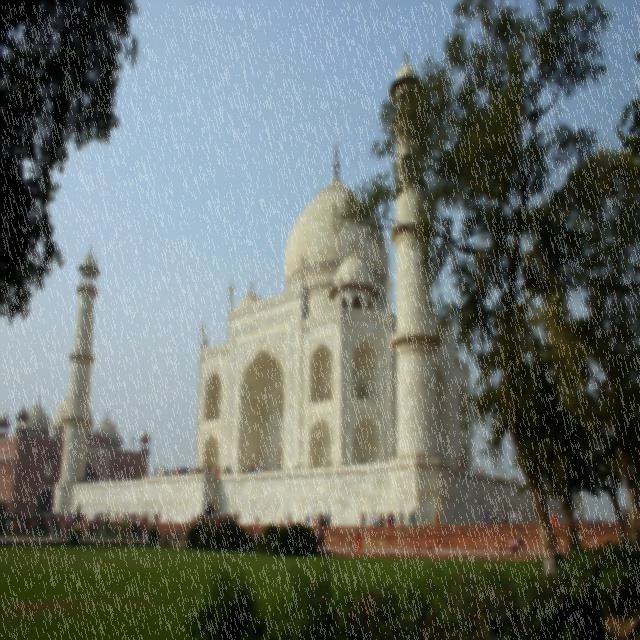pessoa: (3, 508, 190, 546), (78, 458, 272, 483), (188, 510, 242, 530), (311, 510, 333, 554), (446, 456, 486, 478), (579, 514, 617, 532), (549, 524, 562, 558), (248, 525, 263, 553), (575, 522, 586, 558), (517, 526, 527, 554), (570, 513, 580, 539), (550, 506, 558, 534), (354, 526, 362, 552), (510, 533, 518, 556), (510, 474, 525, 486), (366, 510, 374, 530), (621, 502, 629, 522), (353, 526, 358, 552), (348, 532, 354, 552), (502, 506, 508, 526), (492, 506, 498, 524), (626, 506, 632, 524), (435, 511, 440, 532), (512, 508, 518, 525), (278, 516, 284, 533), (293, 462, 303, 472), (372, 510, 378, 526), (386, 512, 392, 528), (398, 512, 404, 528), (254, 514, 260, 530), (361, 508, 366, 526), (408, 511, 414, 526), (205, 501, 214, 511), (378, 512, 384, 526), (380, 512, 386, 526), (400, 510, 406, 524), (305, 512, 311, 526), (413, 507, 417, 527), (392, 511, 397, 526), (574, 503, 578, 521), (590, 536, 596, 548), (358, 458, 368, 465), (484, 509, 488, 525), (390, 510, 394, 523), (392, 452, 397, 462), (488, 514, 492, 524), (288, 513, 292, 522)
